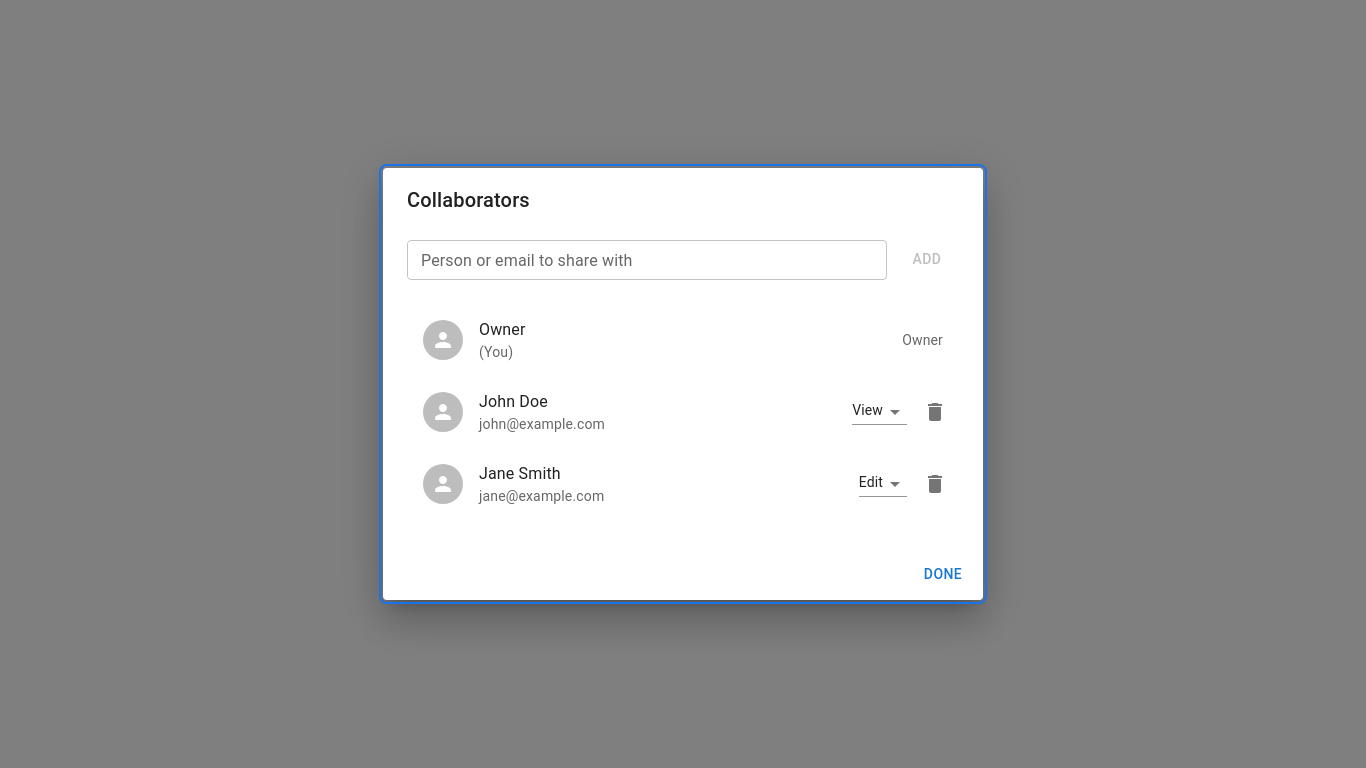
CollaboratorDialog Component › Input Validation › should enable Add button when email is provided
The width and height of the screenshot is (1366, 768).
Type "test@example.com" into the field labelled "Person or email to share with".
click(647, 260); type("test@example.com")  # box top-left (407, 240), bottom-right (887, 280)
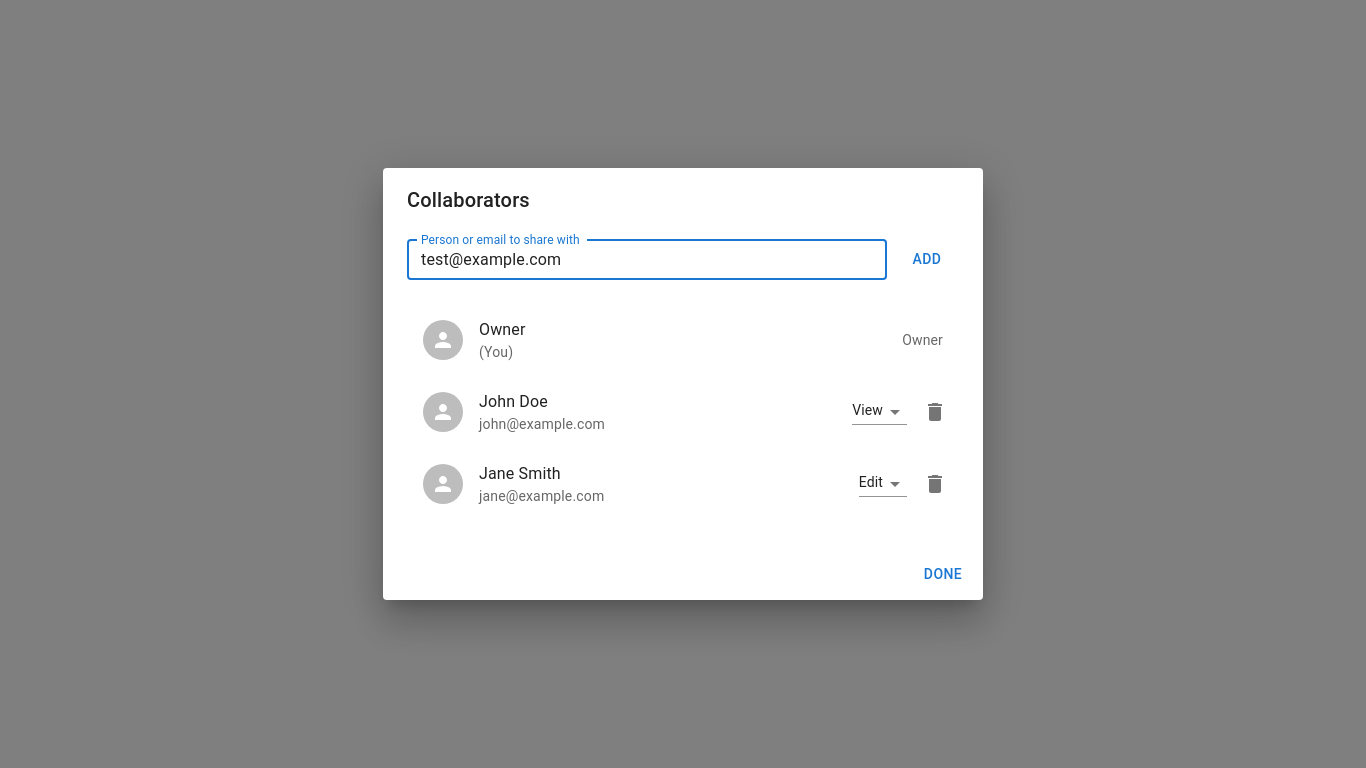
expect the button "Add" is enabled: met, box top-left (895, 242), bottom-right (959, 278)
